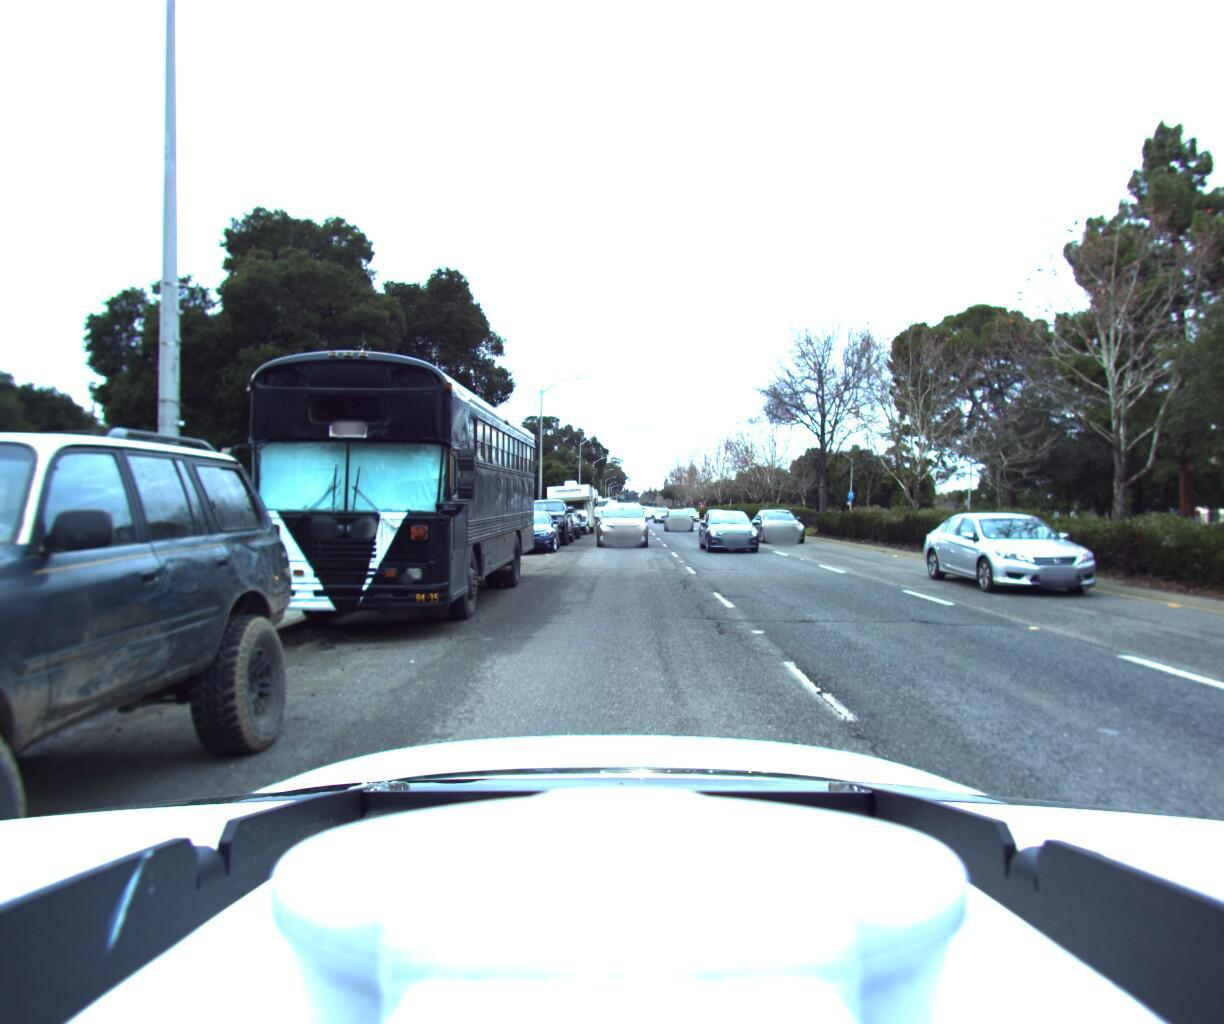bus: (176, 297, 541, 659)
car: (0, 255, 314, 1024), (924, 498, 1157, 610), (510, 494, 573, 549), (699, 507, 764, 556), (592, 496, 652, 548), (493, 508, 557, 555), (750, 504, 814, 545), (539, 503, 580, 540), (663, 507, 697, 531), (648, 506, 669, 523)
other_vehicle: (539, 475, 599, 536), (559, 482, 601, 526)
